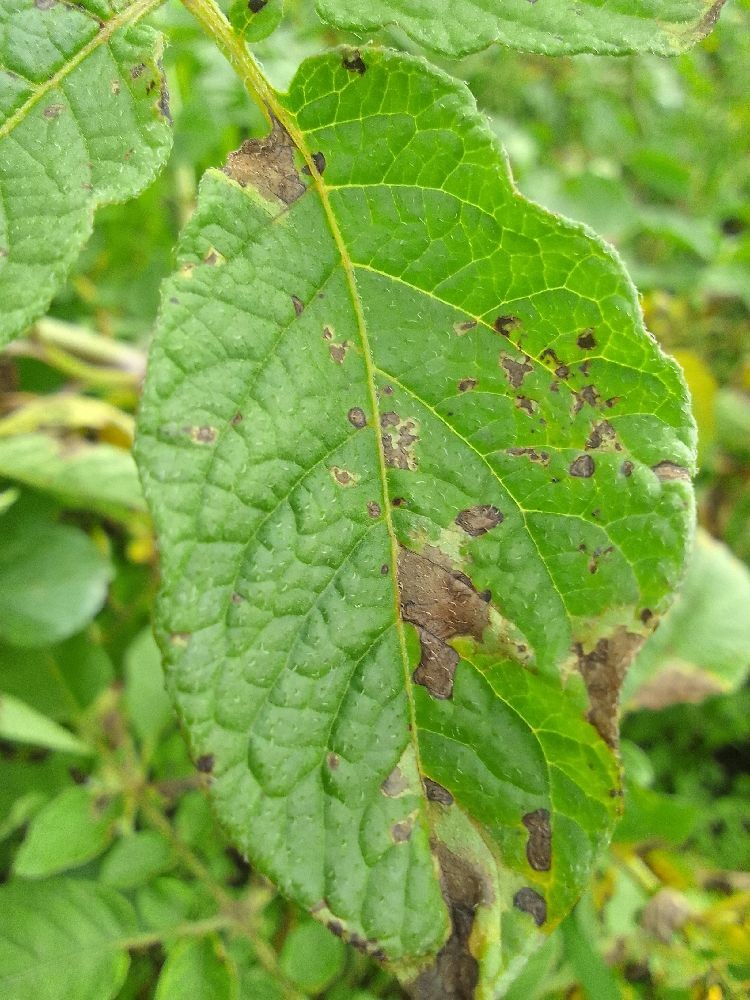late_blight: (377, 529, 736, 769), (360, 819, 513, 1000), (213, 103, 337, 215), (689, 438, 750, 553)
